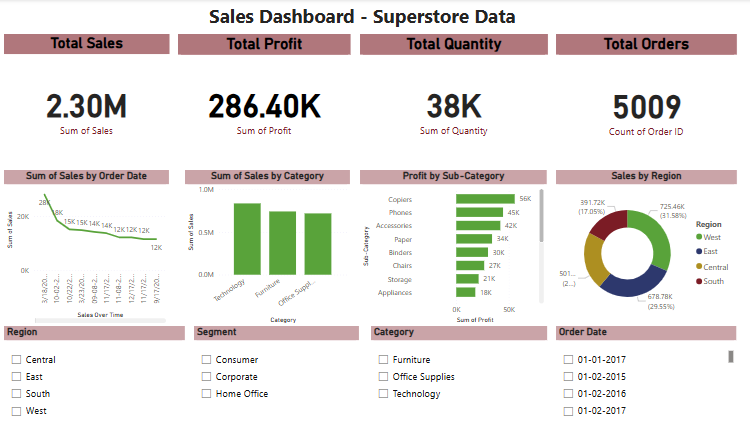

This screenshot's page, from the dashboard's own definition file:
{"tool":"powerbi","page":{"name":"Page 1","canvas":[1280,720],"ordinal":0},"visuals":[{"type":"card","title":"Total Sales","fields":{"Values":["Sum(Sample - Superstore.Sales)"]},"box":[8.7,59.3,280.8,221.5],"z":0},{"type":"card","title":"Total Profit","fields":{"Values":["Sum(Sample - Superstore.Profit)"]},"box":[303.4,59.3,293,221.5],"z":1000},{"type":"card","title":"Total Quantity","fields":{"Values":["Sum(Sample - Superstore.Quantity)"]},"box":[612.1,59.3,319.1,221.5],"z":2000},{"type":"card","title":"Total Orders","fields":{"Values":["Count(Sample - Superstore.Order ID)"]},"box":[945.2,59.3,306.9,223.2],"z":3000},{"type":"lineChart","fields":{"Category":["Sample - Superstore.Order Date"],"Y":["Sum(Sample - Superstore.Sales)"]},"box":[8,291,281,281],"z":4000},{"type":"clusteredColumnChart","fields":{"Category":["Sample - Superstore.Category"],"Y":["Sum(Sample - Superstore.Sales)"]},"box":[304,291,292,281],"z":5000},{"type":"barChart","title":"Profit by Sub-Category","fields":{"Category":["Sample - Superstore.Sub-Category"],"Y":["Sum(Sample - Superstore.Profit)"]},"box":[611,291,319,281],"z":6000},{"type":"donutChart","title":"Sales by Region","fields":{"Category":["Sample - Superstore.Region"],"Y":["Sum(Sample - Superstore.Sales)"]},"box":[946,291,306,281],"z":7000},{"type":"slicer","title":"Region","fields":{"Values":["Sample - Superstore.Region"]},"box":[8.4,571.1,299,149.5],"z":8000},{"type":"slicer","title":"Segment","fields":{"Values":["Sample - Superstore.Segment"]},"box":[330.9,571.1,280.5,149.5],"z":8001},{"type":"slicer","title":"Category","fields":{"Values":["Sample - Superstore.Category"]},"box":[631.6,571.1,299,149.5],"z":8002},{"type":"slicer","title":"Order Date","fields":{"Values":["Sample - Superstore.Order Date"]},"box":[957.5,571.1,294,149.5],"z":8003},{"type":"textbox","box":[303.4,0,626,59.3],"z":8004}]}

Visuals, with their boxes in screenshot pixels (x1, y1, x2, y2), scaled from the page's 1280x720 canvas onto the 750x421 screenshot:
"Total Sales" card: 5/35/170/164
"Total Profit" card: 178/35/349/164
"Total Quantity" card: 359/35/546/164
"Total Orders" card: 554/35/734/165
lineChart - Sample - Superstore.Order Date x Sum(Sample - Superstore.Sales): 5/170/169/334
clusteredColumnChart - Sample - Superstore.Category x Sum(Sample - Superstore.Sales): 178/170/349/334
"Profit by Sub-Category" barChart: 358/170/545/334
"Sales by Region" donutChart: 554/170/734/334
"Region" slicer: 5/334/180/420
"Segment" slicer: 194/334/358/420
"Category" slicer: 370/334/545/420
"Order Date" slicer: 561/334/733/420
textbox: 178/0/545/35
